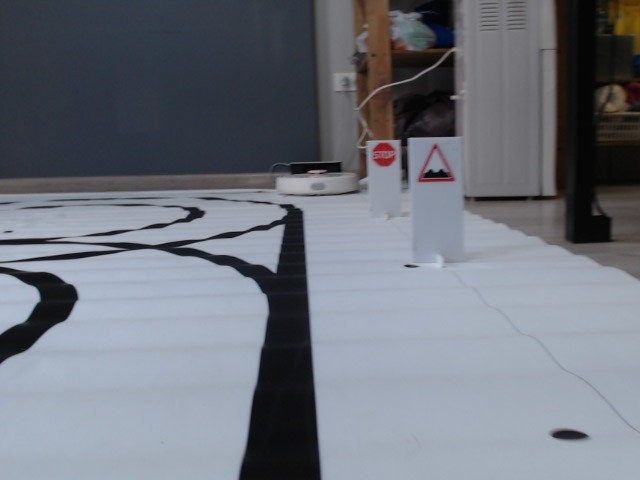Nerov: (418, 143, 453, 182)
Stop: (370, 142, 396, 167)
